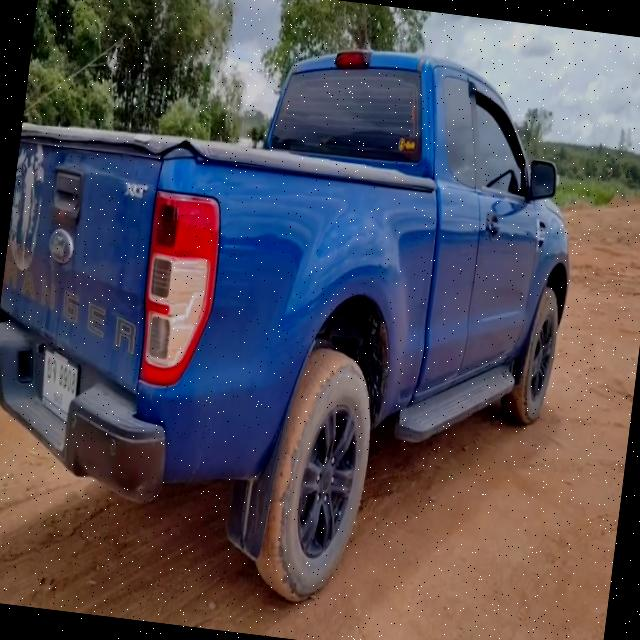Digit: (58, 362, 77, 395)
Licenseplate: (40, 348, 81, 429)
Provincename: (52, 389, 63, 410)
Thaichar: (45, 355, 57, 384)
